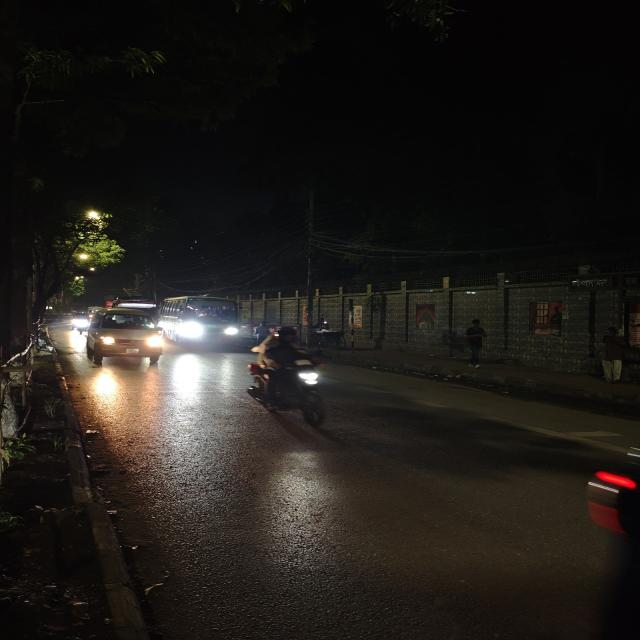bus: (166, 295, 242, 348)
car: (81, 302, 170, 367)
motorcycle: (241, 323, 342, 431)
pedestrian: (595, 325, 633, 383), (459, 318, 492, 368)
